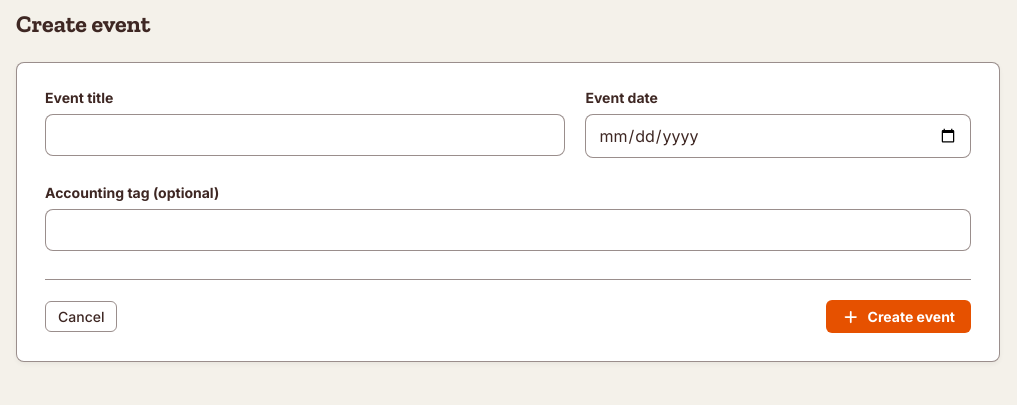
Test case: EventFormPanel › validates required fields on create
The image size is (1017, 405).
What coordinates should you click on to do the following:
click the button "Create event"
I would click on:
 (899, 316)
Its box is 826,300 -> 971,333.
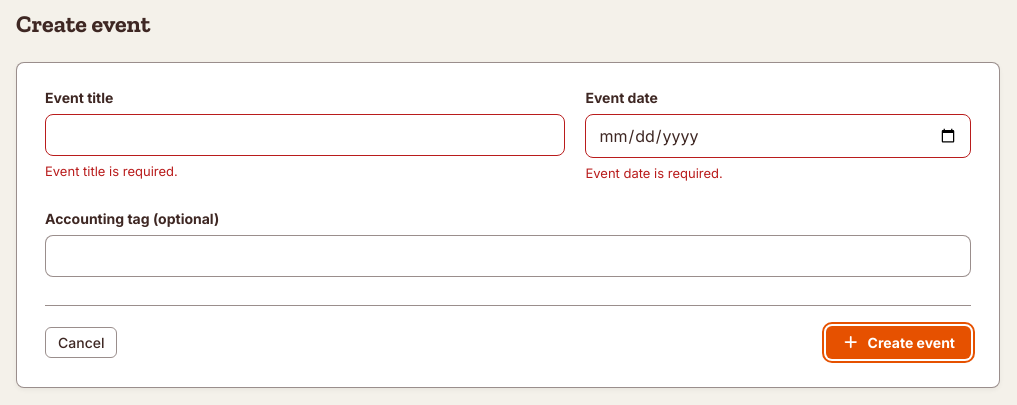
Expected: the text "Event title is required." is shown, 45,163 -> 178,179
Expected: the text "Event date is required." is shown, 586,165 -> 723,181
